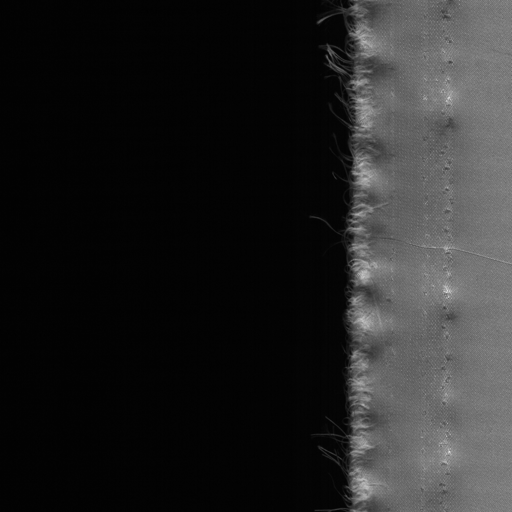defect: (362, 227, 512, 278)
